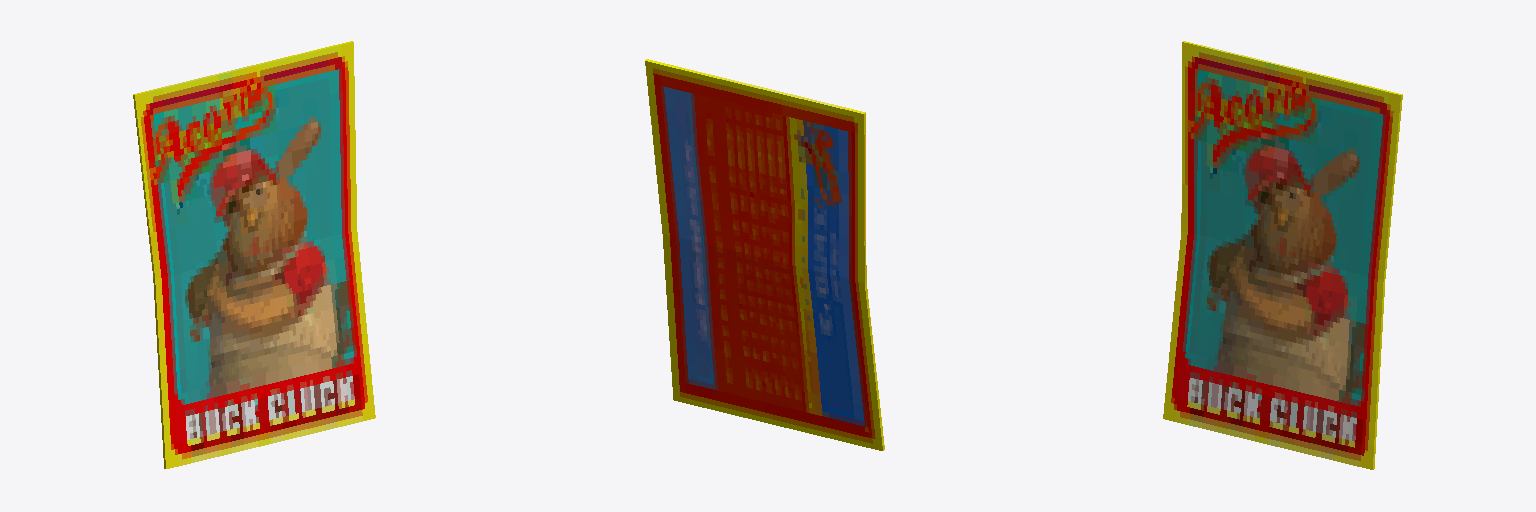
The picture shows the model from 3 angles: view 1: azimuth 30°, elevation 25°; view 2: azimuth 150°, elevation 25°; view 3: azimuth 330°, elevation 25°; orthographic projection.
Parts seen in each view (by area): view 1: card; view 2: card; view 3: card.
Part boxes in pixels (x1,y1,x2,y2): card: (133, 41, 375, 468); card: (645, 59, 884, 450); card: (1163, 41, 1402, 469).
Size of the model in its own units: 0.2966 by 0.4629 by 0.0635.
1 materials, 1 textured.